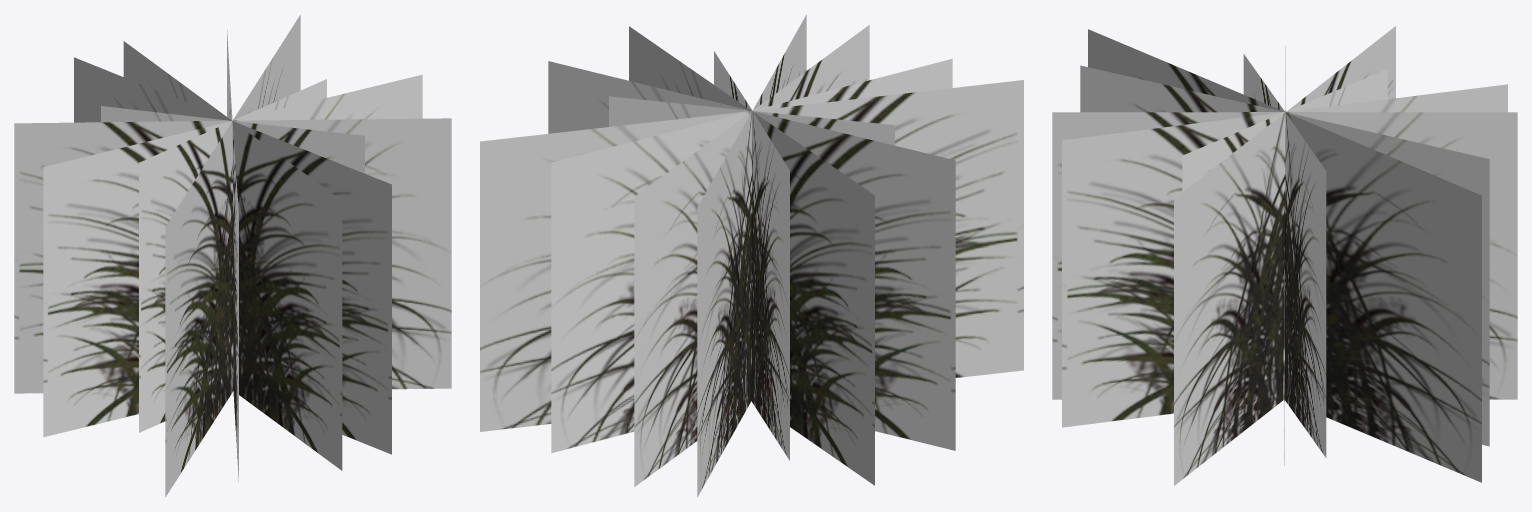
Rendered from Model_Plant_11.fbx.
The picture shows the model from 3 angles, left to right: view 1: azimuth 30°, elevation 25°; view 2: azimuth 150°, elevation 25°; view 3: azimuth 270°, elevation 25°; orthographic projection. The views are drawn at different scales.
Visible parts, largest first — view 1: DGrass5; view 2: DGrass5; view 3: DGrass5.
Boxes of the visible parts, left/top/right/bottom form: DGrass5: left=14, top=14, right=451, bottom=497; DGrass5: left=480, top=14, right=1023, bottom=497; DGrass5: left=1052, top=26, right=1517, bottom=485.
Size of the model in its own units: 80.62 by 54.92 by 80.62.
